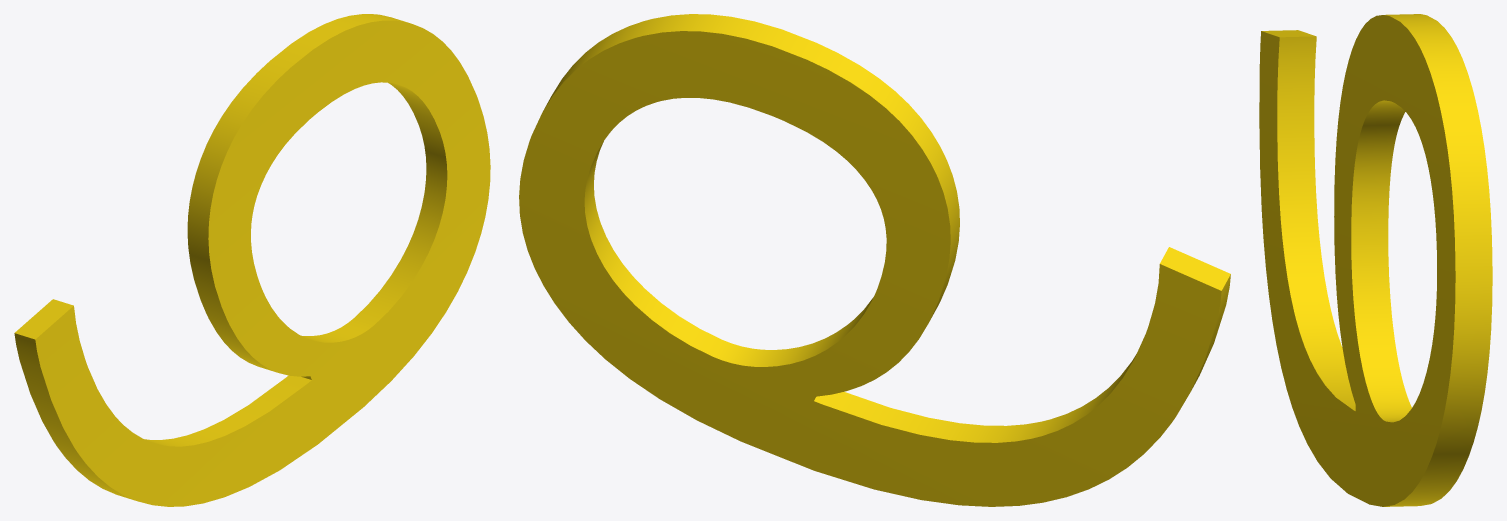
Rendered from Number_6.gltf.
3 views of the same model, side by side, from view 1: azimuth 30°, elevation 25°; view 2: azimuth 150°, elevation 25°; view 3: azimuth 270°, elevation 25° (orthographic). The views are drawn at different scales.
Visible parts, largest first — view 1: Sub_2_Cell_2_3_Number_6; view 2: Sub_2_Cell_2_3_Number_6; view 3: Sub_2_Cell_2_3_Number_6.
Part boxes in pixels (left/top/right/bottom): Sub_2_Cell_2_3_Number_6: left=14, top=14, right=490, bottom=506; Sub_2_Cell_2_3_Number_6: left=519, top=14, right=1230, bottom=506; Sub_2_Cell_2_3_Number_6: left=1259, top=14, right=1492, bottom=506.
Size of the model in its own units: 0.0262 by 0.0186 by 0.00771.
